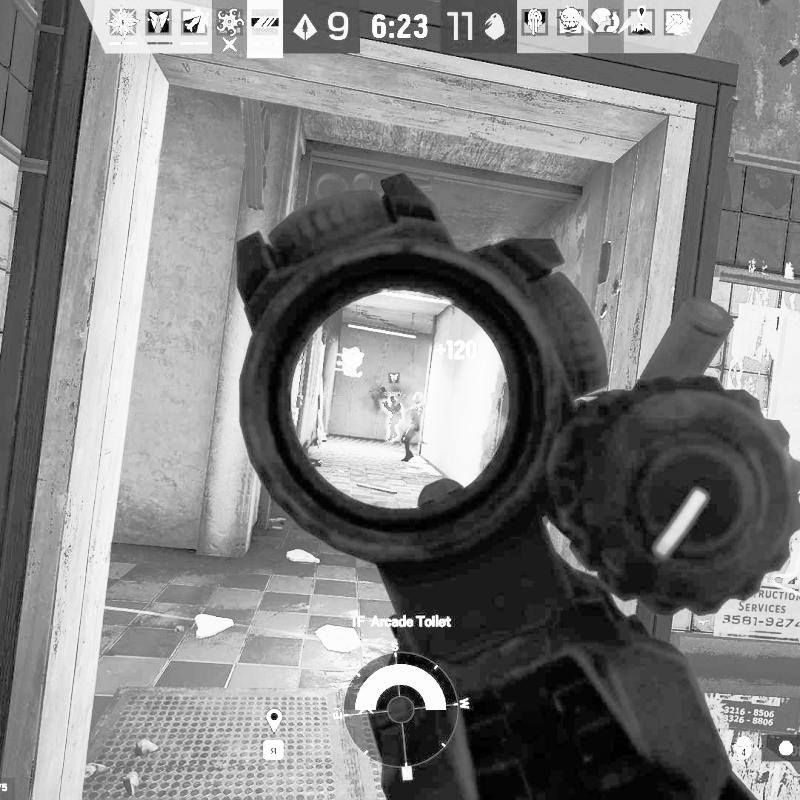Character: (401, 390, 427, 462)
Friend_label: (382, 373, 407, 397), (397, 314, 398, 315)
Head: (412, 392, 423, 404)
